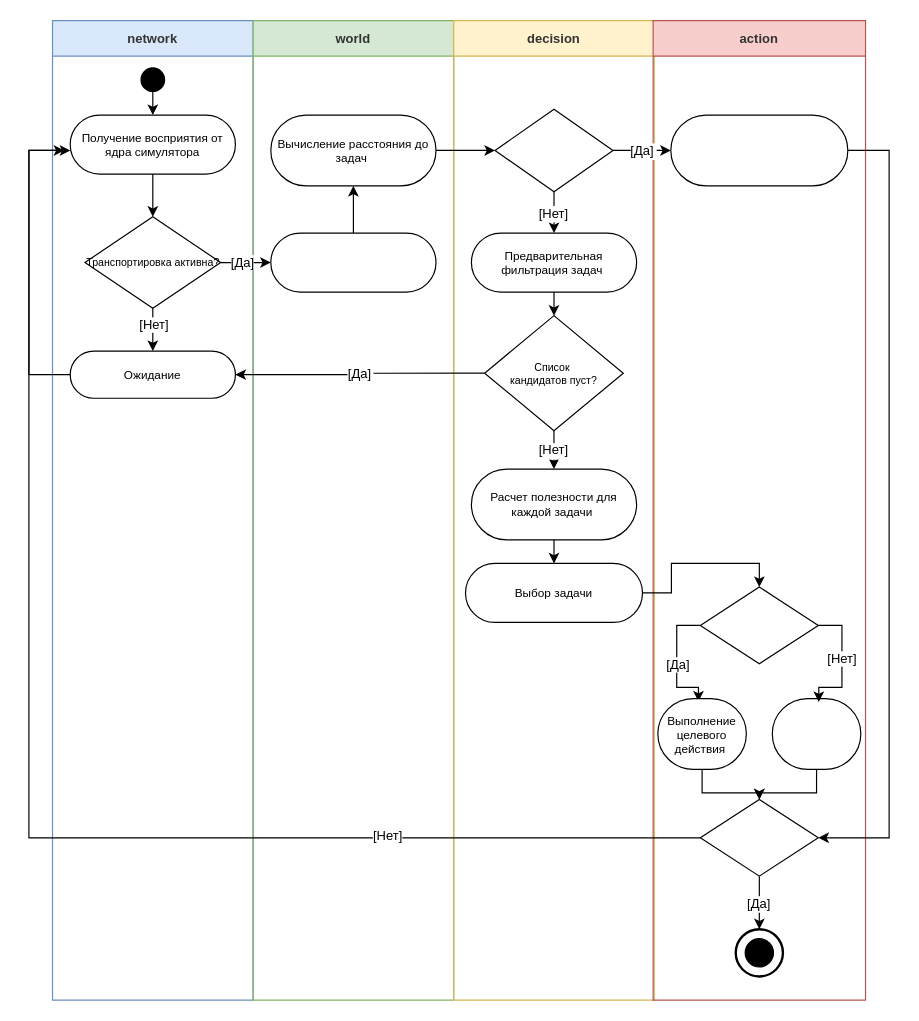
Some shapes in this 919 by 1021 pixel diagram are drawn without their labels. Here are the shapes that lost their labels. From the top down, the centre of each, then its label:
At (553,150): "Требуется визит в убежище?".
At (759,150): "Построение маршрута к убежищу".
At (353,262): "Обновление состояния мира".
At (758,625): "Агент у цели?".
At (816,733): "Перемещение к цели".
At (758,837): "Симуляция завершена?".
